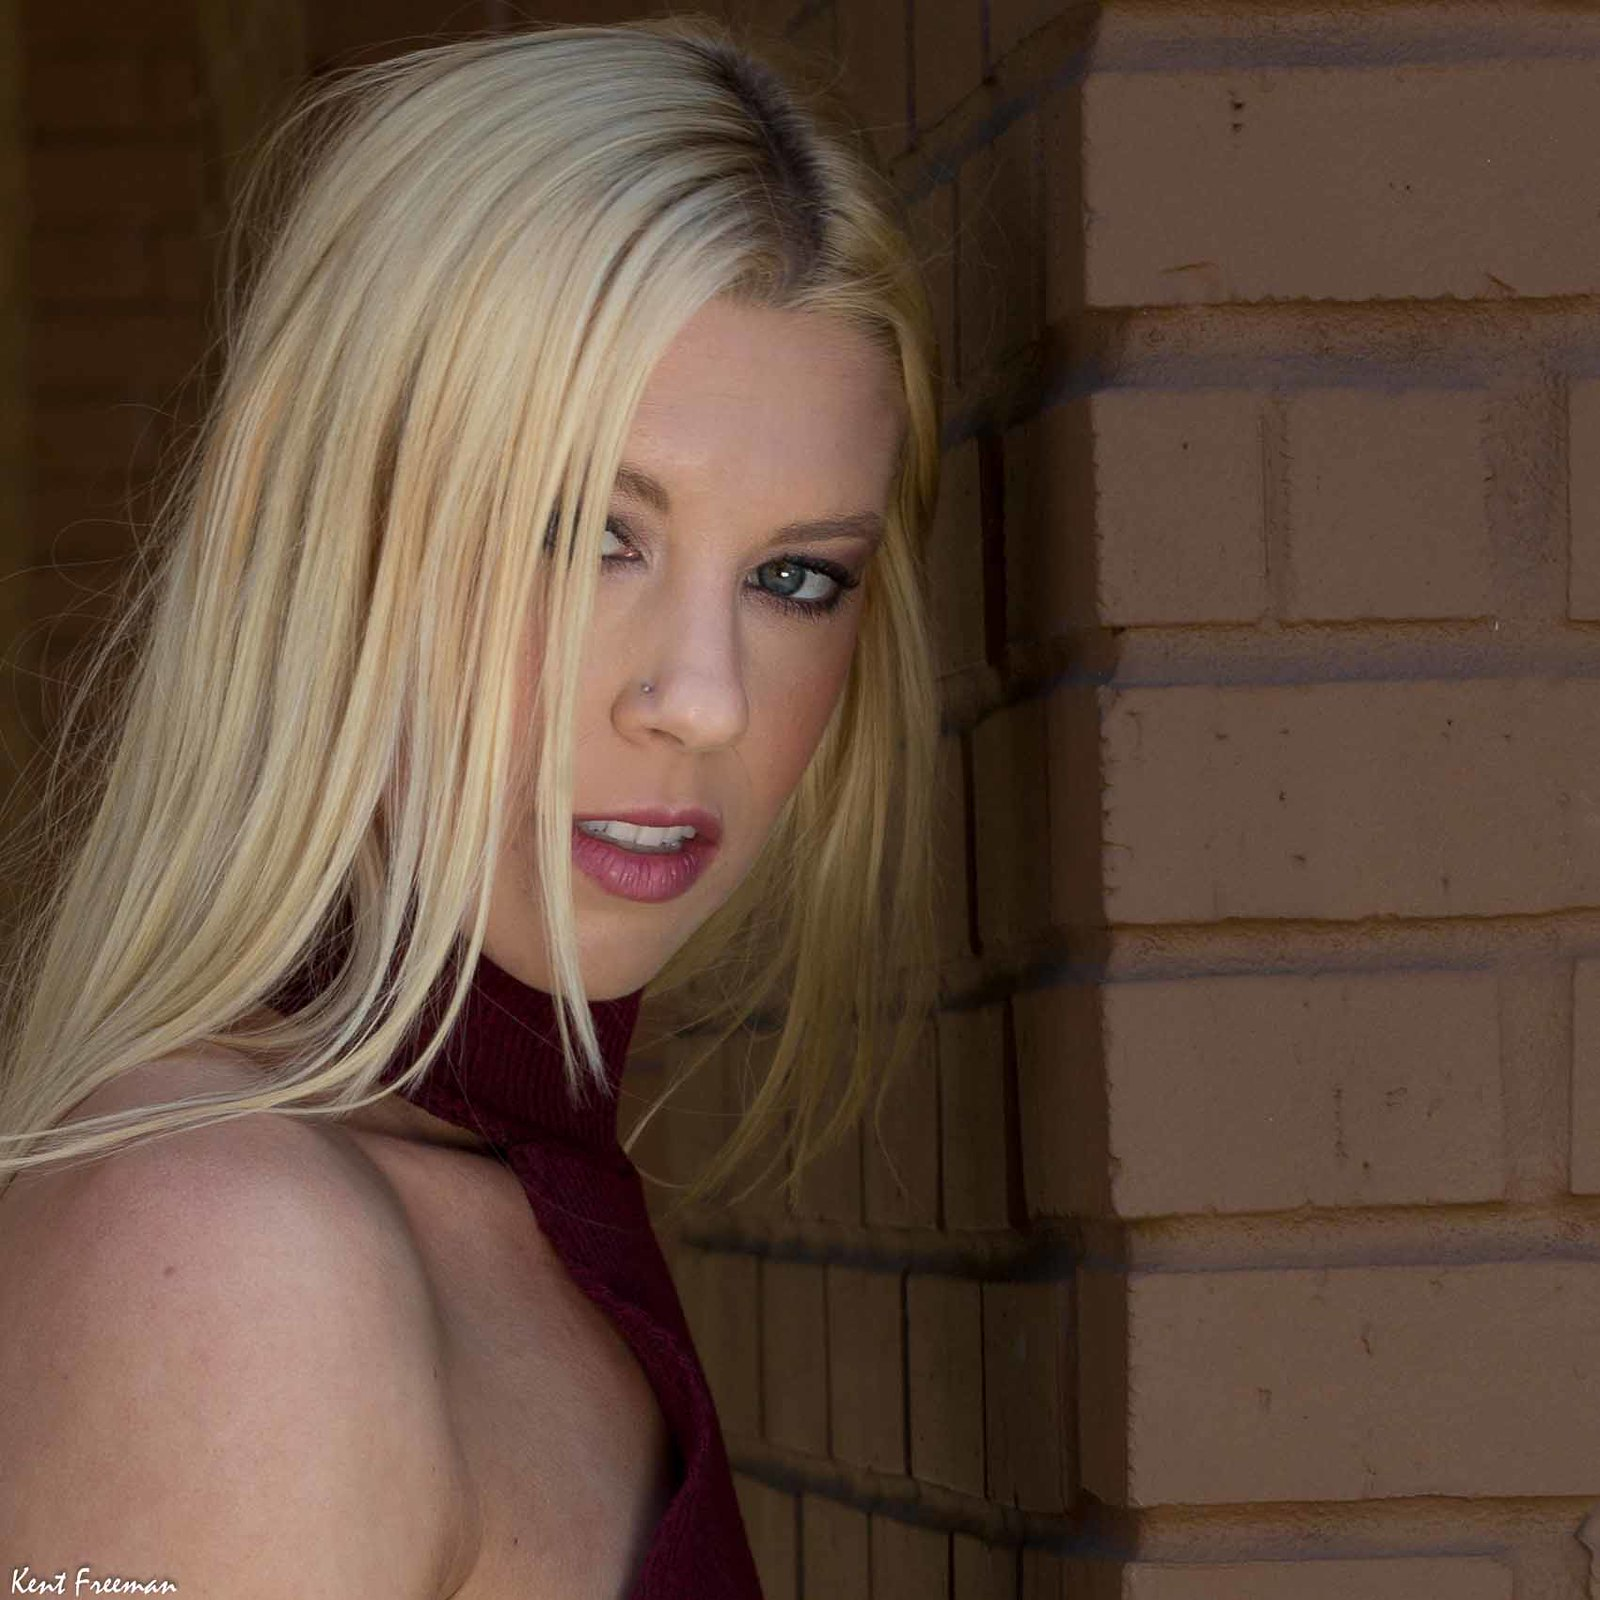person: (8, 43, 1095, 1600)
